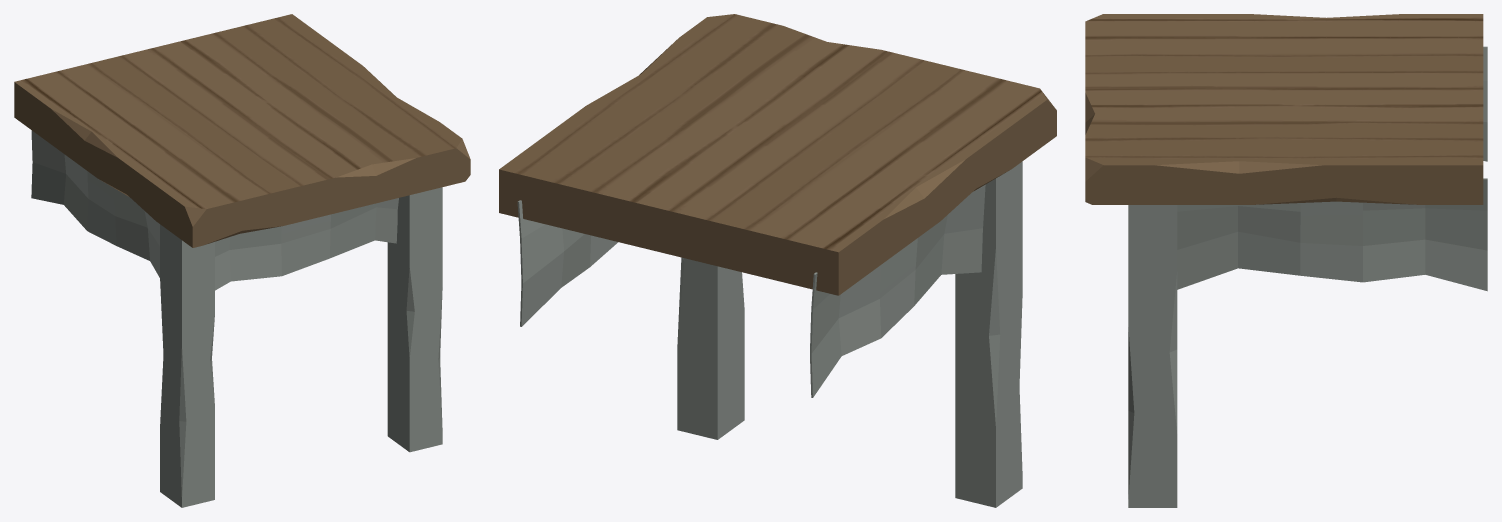
File: SM_Env_Stall_07.fbx
3 views of the same model, side by side, from view 1: azimuth 30°, elevation 25°; view 2: azimuth 150°, elevation 25°; view 3: azimuth 270°, elevation 25° (orthographic). The views are drawn at different scales.
Visible parts, largest first — view 1: SM_Env_Stall_07; view 2: SM_Env_Stall_07; view 3: SM_Env_Stall_07.
Part boxes in pixels (x1,y1,x2,y2): SM_Env_Stall_07: (14,14,470,507); SM_Env_Stall_07: (499,14,1056,507); SM_Env_Stall_07: (1085,14,1487,507).
Size of the model in its own units: 146 by 156 by 164.
1 material, 1 textured.
